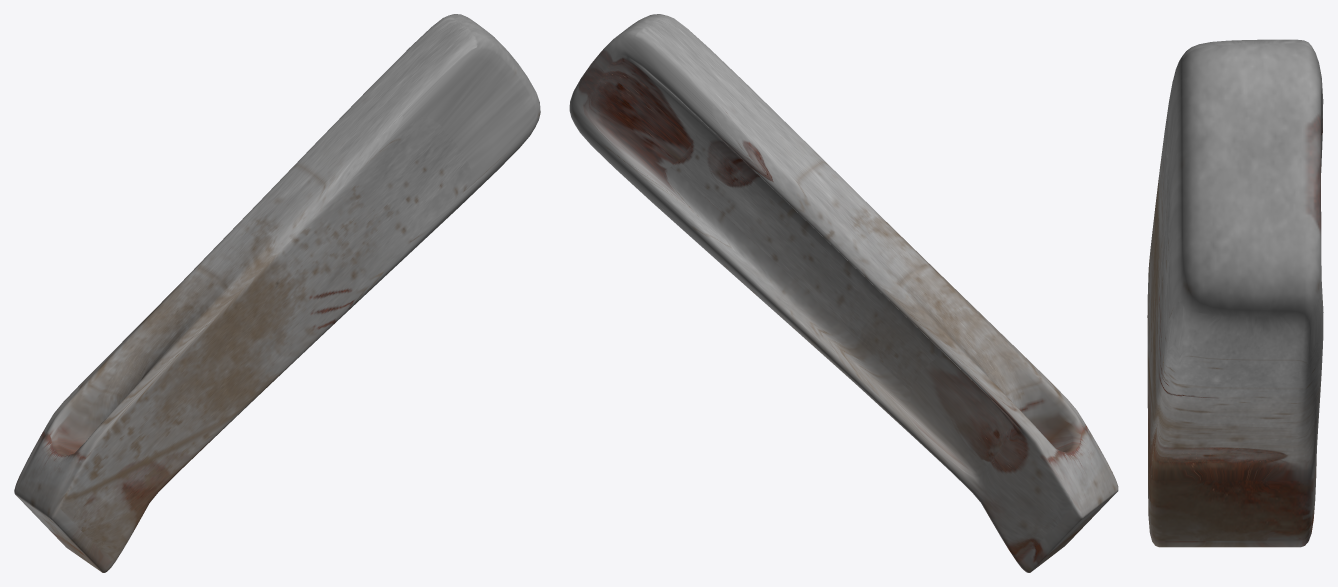
File: perrorobot_brazoder.glb
The picture shows the model from 3 angles, left to right: view 1: azimuth 30°, elevation 25°; view 2: azimuth 150°, elevation 25°; view 3: azimuth 270°, elevation 25°; orthographic projection. The views are drawn at different scales.
Parts seen in each view (by area): view 1: pasted__pCube4_legmetal_0; view 2: pasted__pCube4_legmetal_0; view 3: pasted__pCube4_legmetal_0.
Part boxes in pixels (<box>): pasted__pCube4_legmetal_0: <box>14,14,540,572</box>; pasted__pCube4_legmetal_0: <box>569,14,1118,572</box>; pasted__pCube4_legmetal_0: <box>1147,39,1323,547</box>.
Bounding box in the file's own units: 0.4464 × 0.3718 × 0.0676.
Materials: 1 (1 with a texture image).
